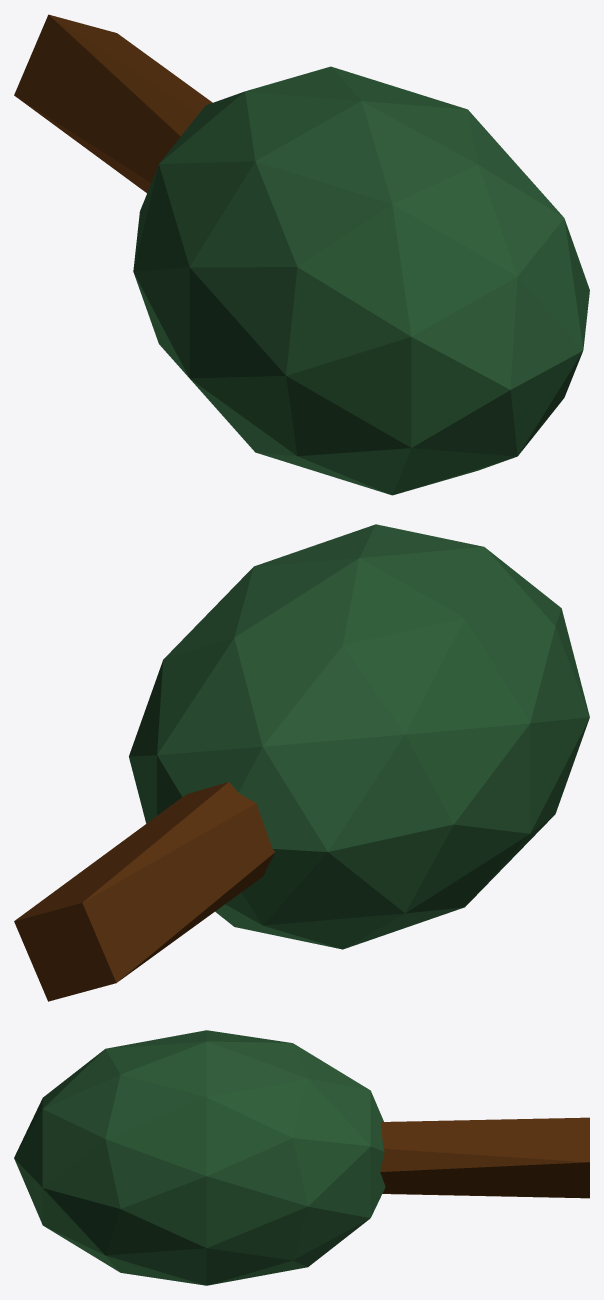
3 views of the same model, one above another, from view 1: azimuth 30°, elevation 25°; view 2: azimuth 150°, elevation 25°; view 3: azimuth 270°, elevation 25° (orthographic). The views are drawn at different scales.
Visible parts, largest first — view 1: node; view 2: node; view 3: node.
Boxes of the visible parts, x1,y1,x2,y2 form: node: (14,14,589,495); node: (14,524,589,1001); node: (14,1030,589,1285).
Bounding box in the file's own units: 0.5 × 0.5 × 1.12.
